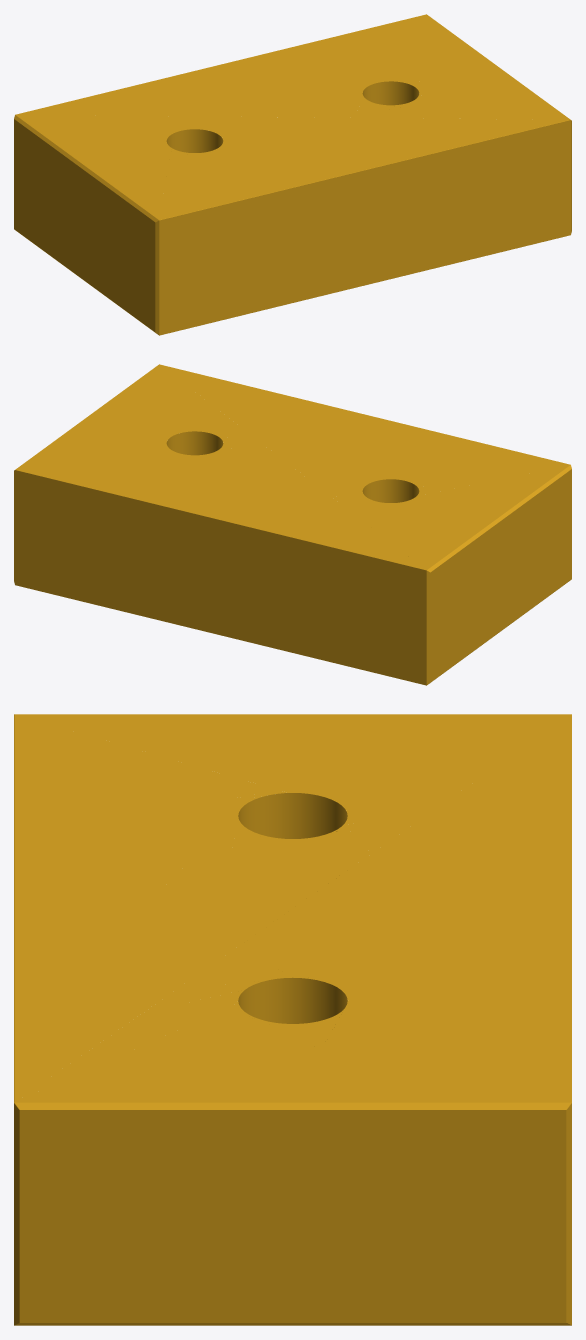
File: takoz-rammer-s84-side-buffer-02.glb
3 views of the same model, one above another, from view 1: azimuth 30°, elevation 25°; view 2: azimuth 150°, elevation 25°; view 3: azimuth 270°, elevation 25° (orthographic). The views are drawn at different scales.
Parts seen in each view (by area): view 1: body; view 2: body; view 3: body.
Part boxes in pixels (<box>): body: <box>14,14,571,335</box>; body: <box>14,364,571,685</box>; body: <box>14,714,571,1325</box>.
Bounding box in the file's own units: 0.17 × 0.045 × 0.102.
